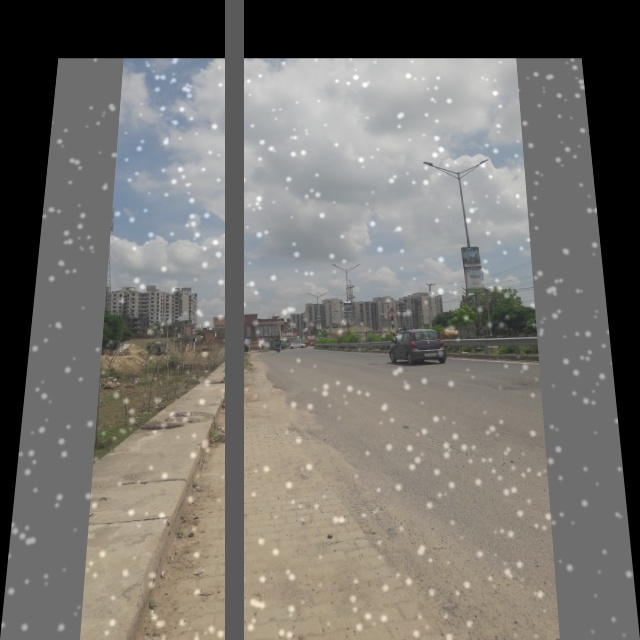Left_Reverse_Bend: (225, 311, 250, 333)
